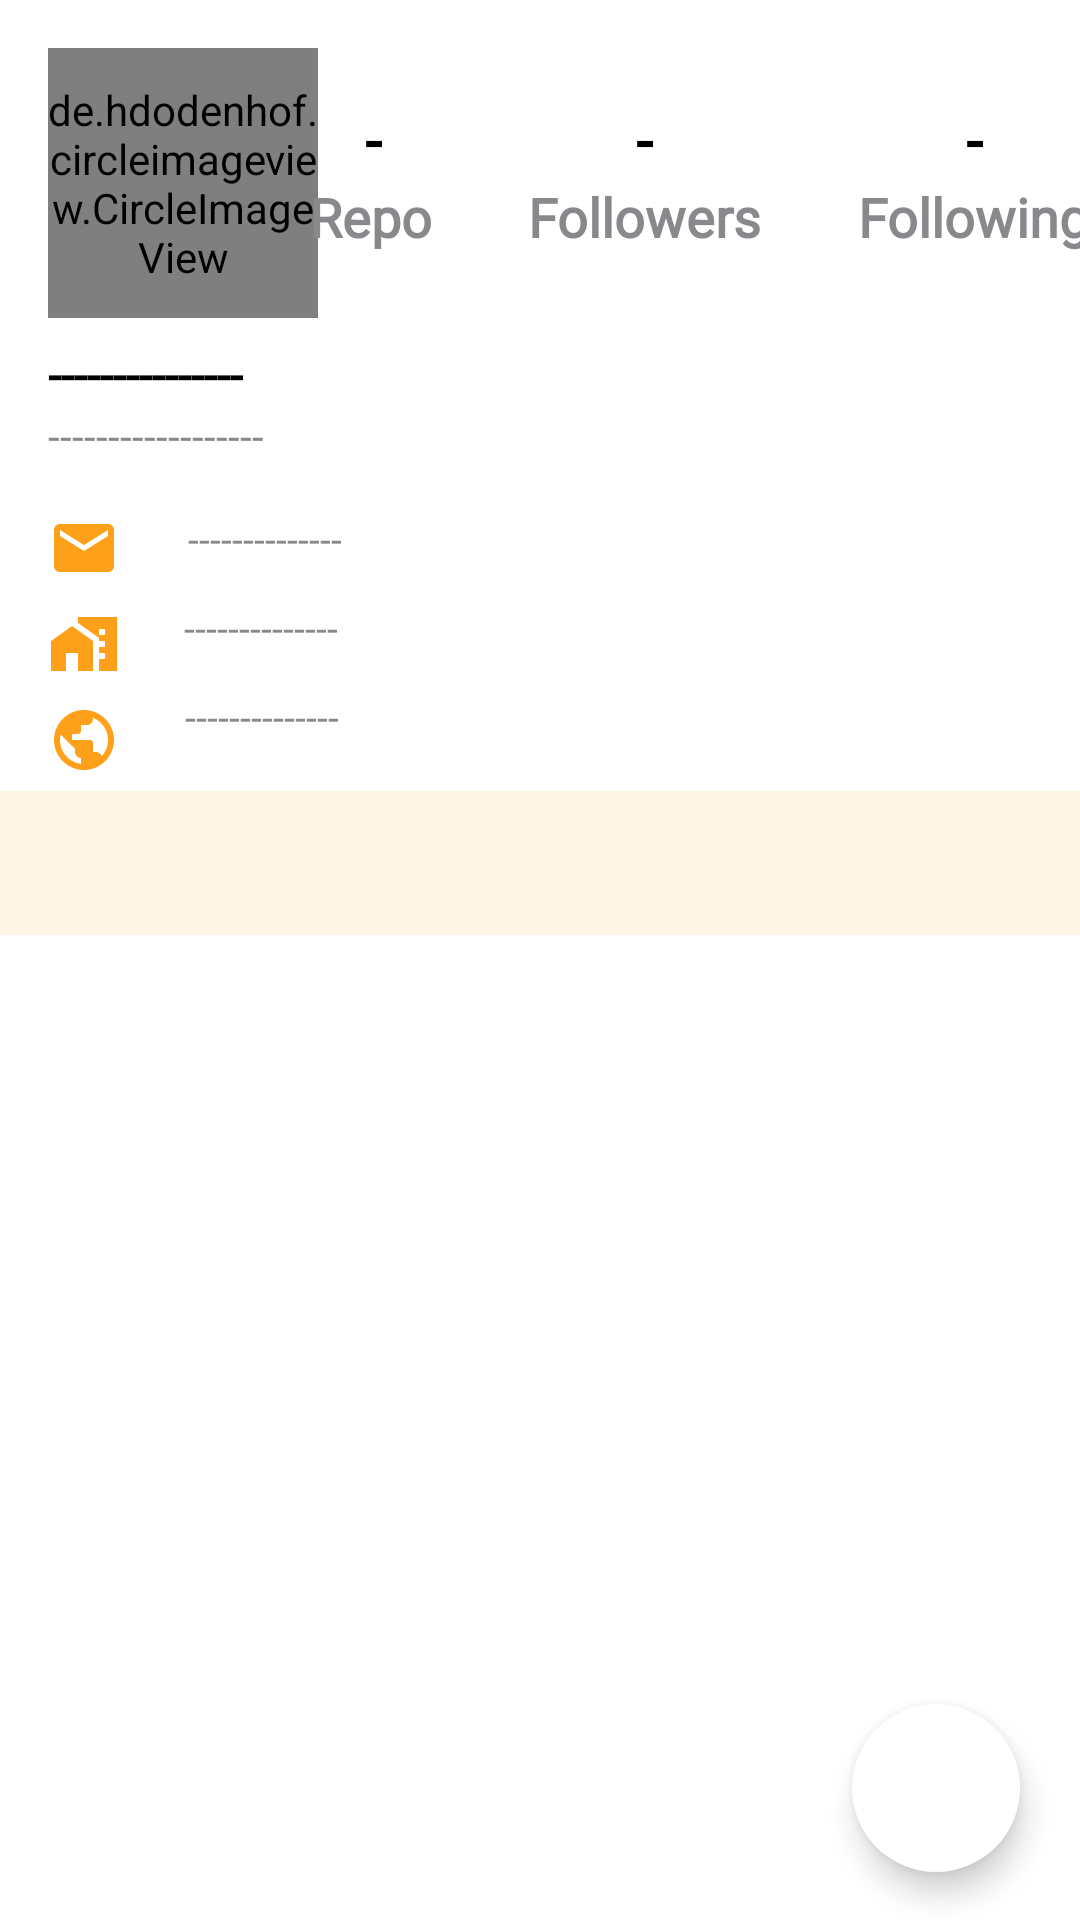

Icons on this 1080 × 1920 Android screen, each with the point to tap as [x,y]:
Blog user Github: [84,740]
Company user Github: [84,644]
Email user Github: [84,548]
